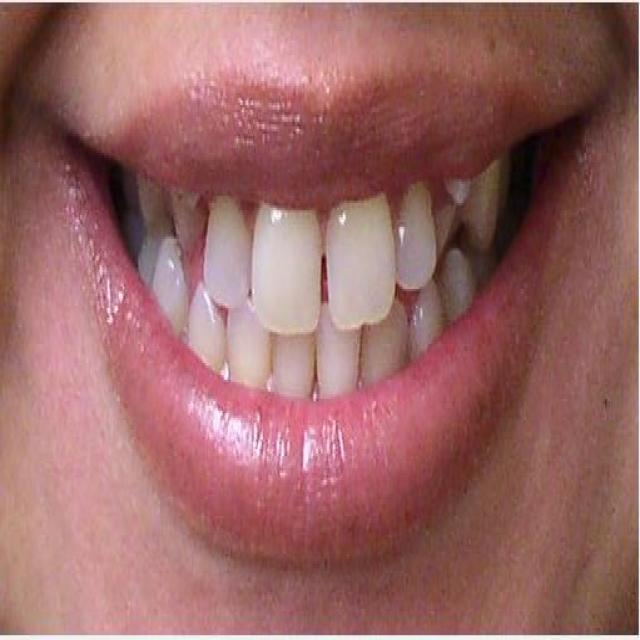tooth: (328, 198, 401, 322), (256, 205, 321, 328), (364, 301, 418, 394), (314, 306, 362, 406), (205, 210, 252, 306), (398, 189, 444, 284), (230, 306, 278, 396), (273, 324, 322, 404), (468, 155, 508, 251), (188, 282, 228, 375), (158, 236, 188, 346), (442, 239, 481, 320), (409, 284, 448, 361), (434, 184, 470, 255), (177, 189, 204, 260), (135, 229, 162, 299), (143, 179, 160, 232)
